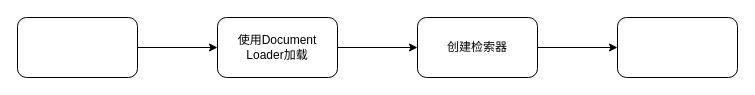
The diagram is 755 pixels wide and 95 high, and some of its shapes have lost their labels. Each missing label, with the centre of its shape:
创建题库数据集: the point at 77,47
检索内容: the point at 677,47
